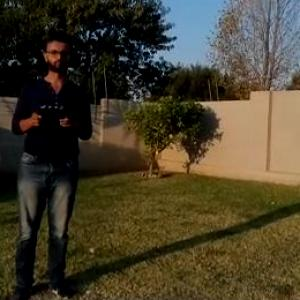follow: (3, 28, 97, 299)
